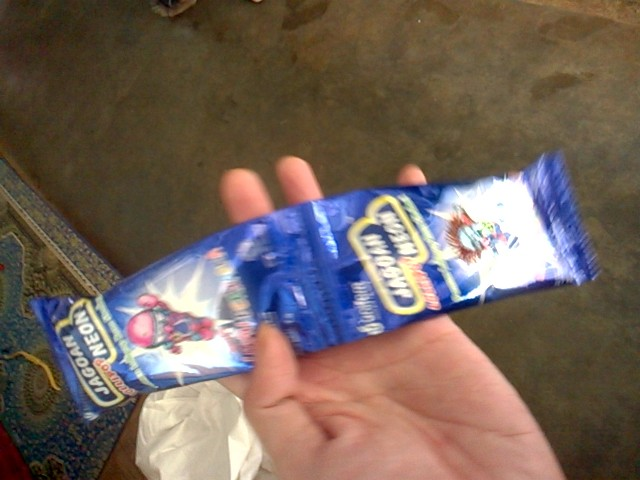jagoan neon: (36, 210, 333, 428), (284, 151, 601, 346)
